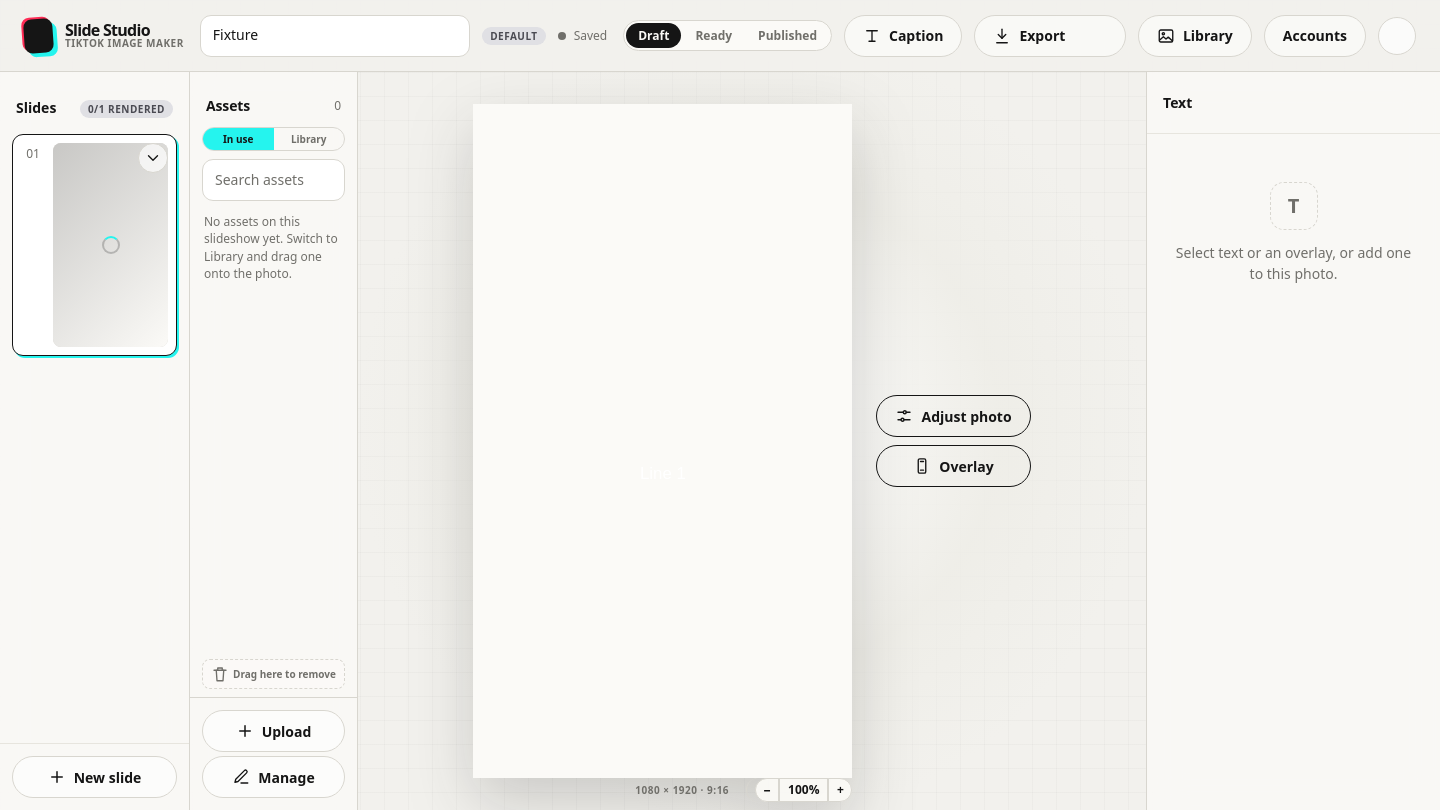
reloads once for several events that arrived during one save
The image size is (1440, 810).
Replace the text in the field named "Slideshow name" with "Being typed" at [335, 36], box x1=200 y1=14 x2=470 y2=56
(page scrolled)
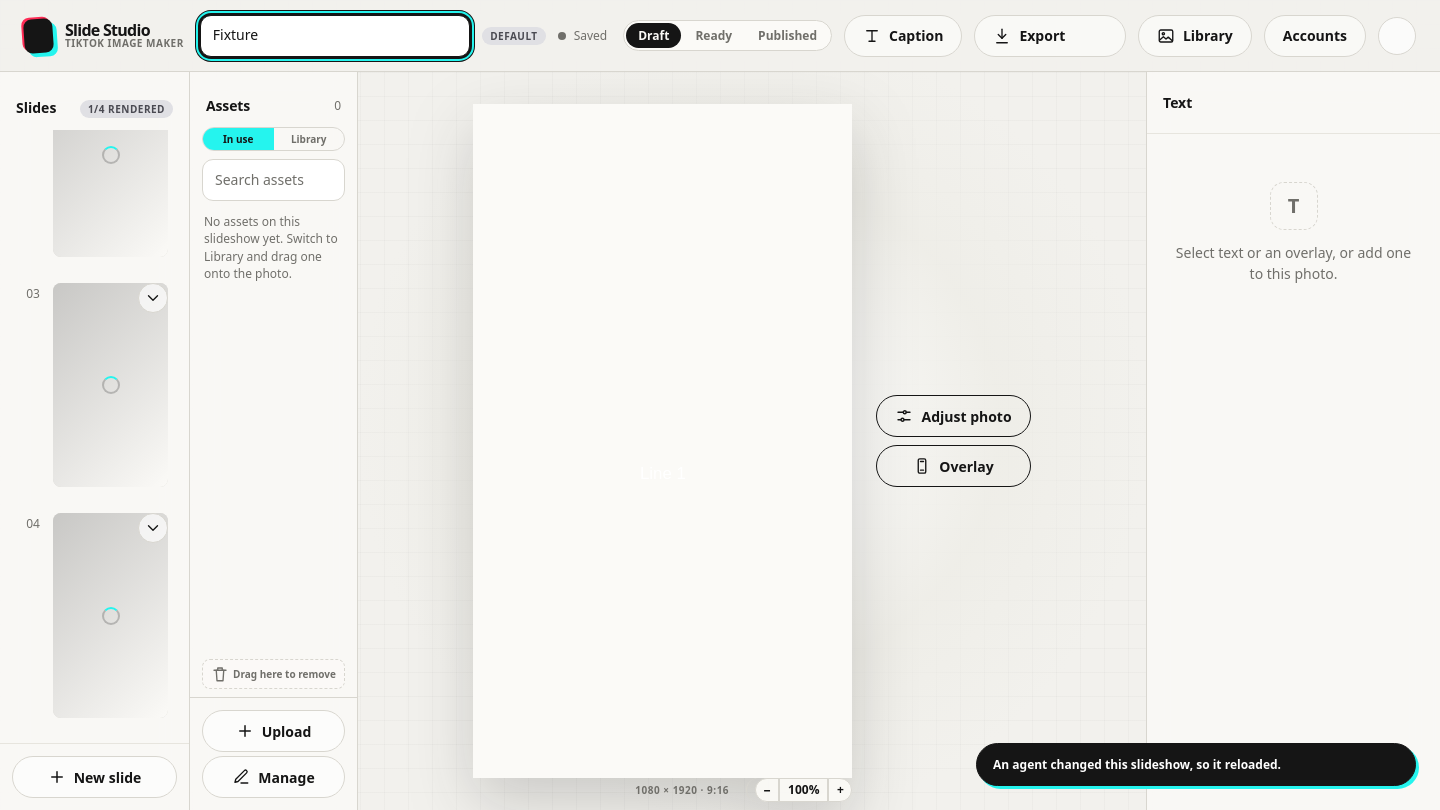
Result: the button named "Open slide 4" is shown at x1=13 y1=505 x2=176 y2=726
